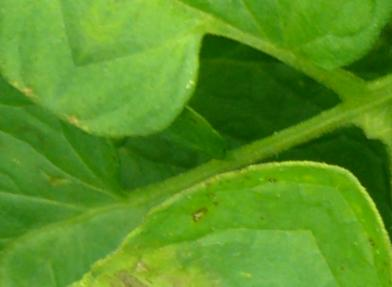Tomato Early blight leaf: (37, 16, 376, 287), (46, 0, 372, 233)
